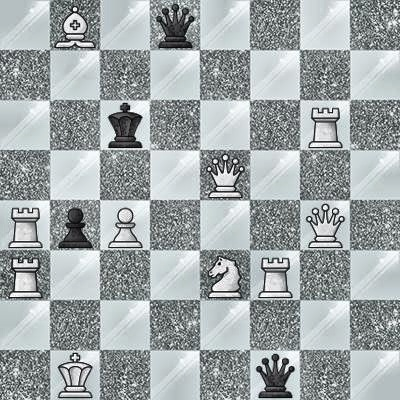black-king: (100, 100, 150, 150)
black-pawn: (50, 200, 100, 250)
black-queen: (150, 0, 200, 50), (250, 350, 300, 400)
white-bishop: (50, 0, 100, 50)
white-king: (50, 350, 100, 400)
white-knight: (200, 250, 250, 300)
white-pawn: (100, 200, 150, 250)
white-queen: (200, 150, 250, 200), (300, 200, 350, 250)
white-rook: (300, 100, 350, 150), (0, 200, 50, 250), (0, 250, 50, 300), (250, 250, 300, 300)
